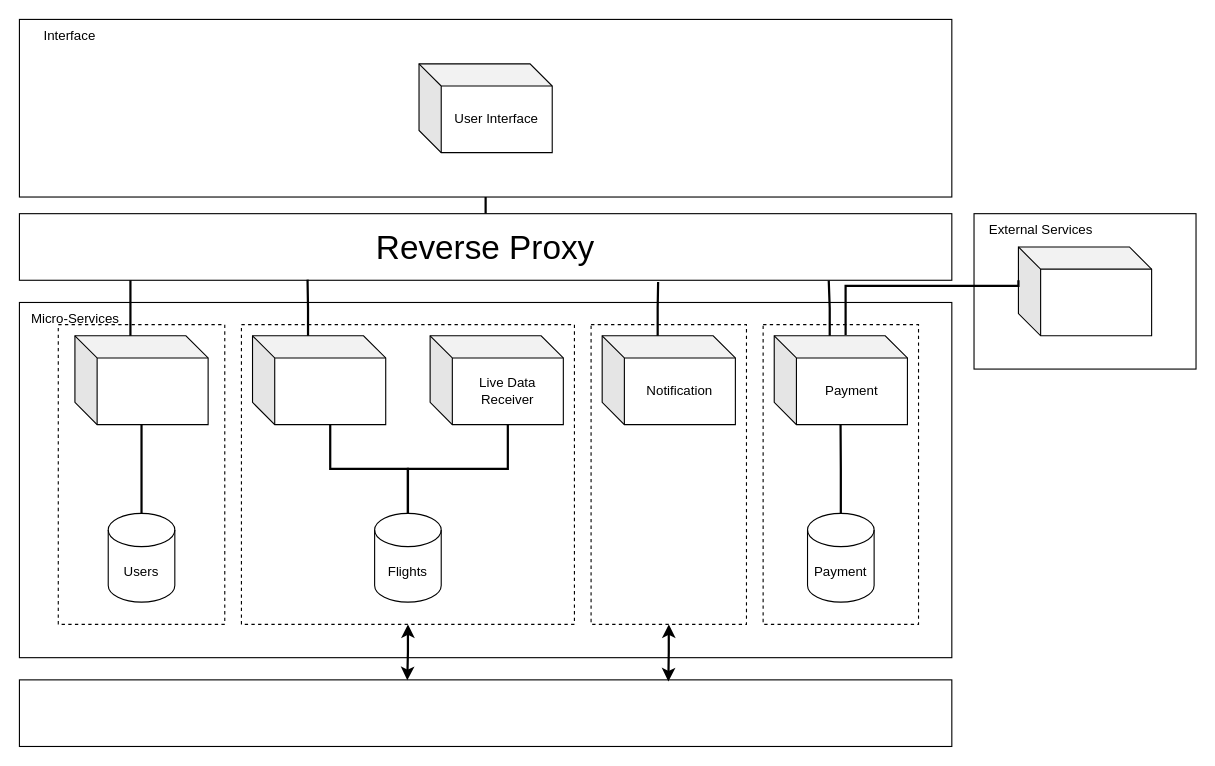
Some shapes in this 1215 by 766 pixel diagram are drawn without their labels. Each missing label, with the centre of its shape:
"Eletronic Payment Handler" goes at (x=1084, y=291).
"Flights CRUD" goes at (x=318, y=380).
"Message Queue" goes at (x=485, y=712).
"User CRUD" goes at (x=141, y=380).
